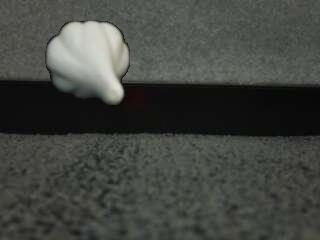Garlic: (45, 19, 134, 107)
